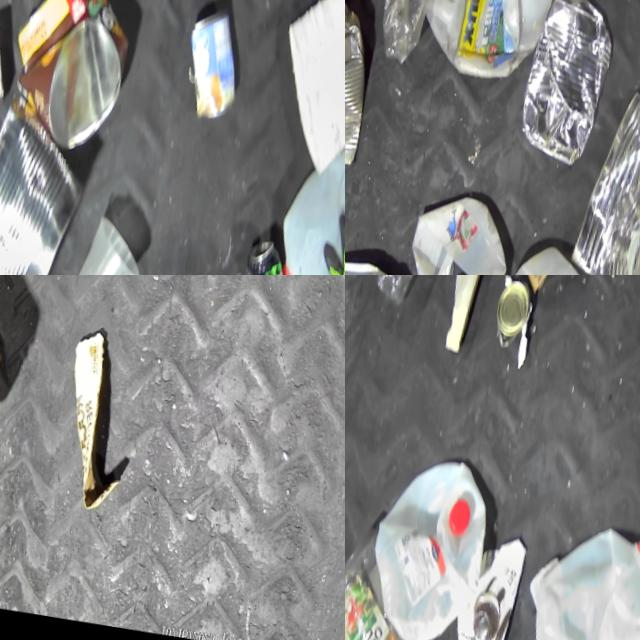can: (0, 0, 140, 157), (505, 0, 621, 169), (552, 76, 640, 275), (0, 98, 93, 275), (173, 4, 247, 126), (345, 0, 385, 178), (486, 275, 534, 352), (224, 235, 295, 275)
milk_jug: (352, 448, 495, 640), (391, 0, 572, 92), (510, 515, 640, 640), (259, 0, 345, 185), (263, 128, 345, 275), (390, 182, 513, 275), (473, 232, 634, 275)
plastic_bottle: (345, 521, 433, 640), (356, 0, 463, 75), (366, 275, 453, 312)
